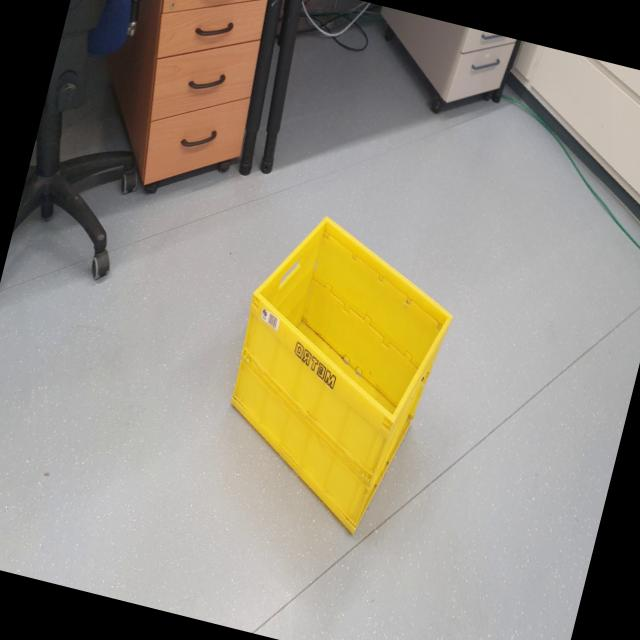box: (192, 192, 482, 556)
